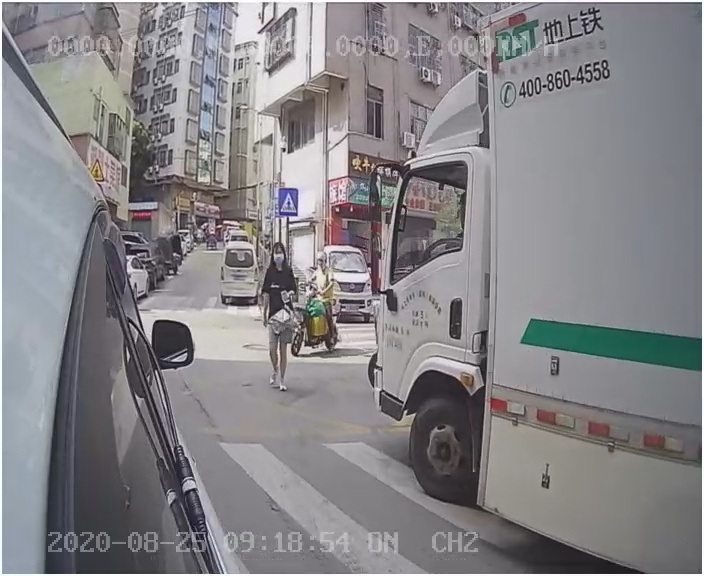person: (255, 237, 303, 395)
